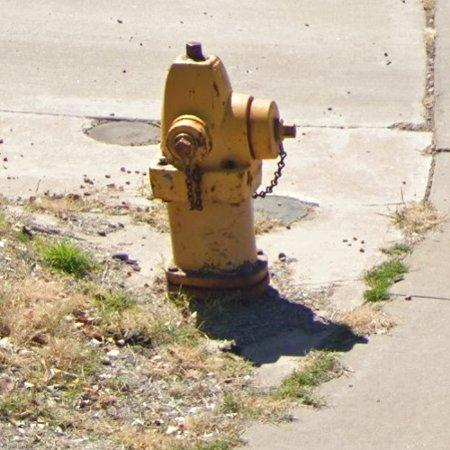a fire hydrant: (149, 42, 296, 288)
